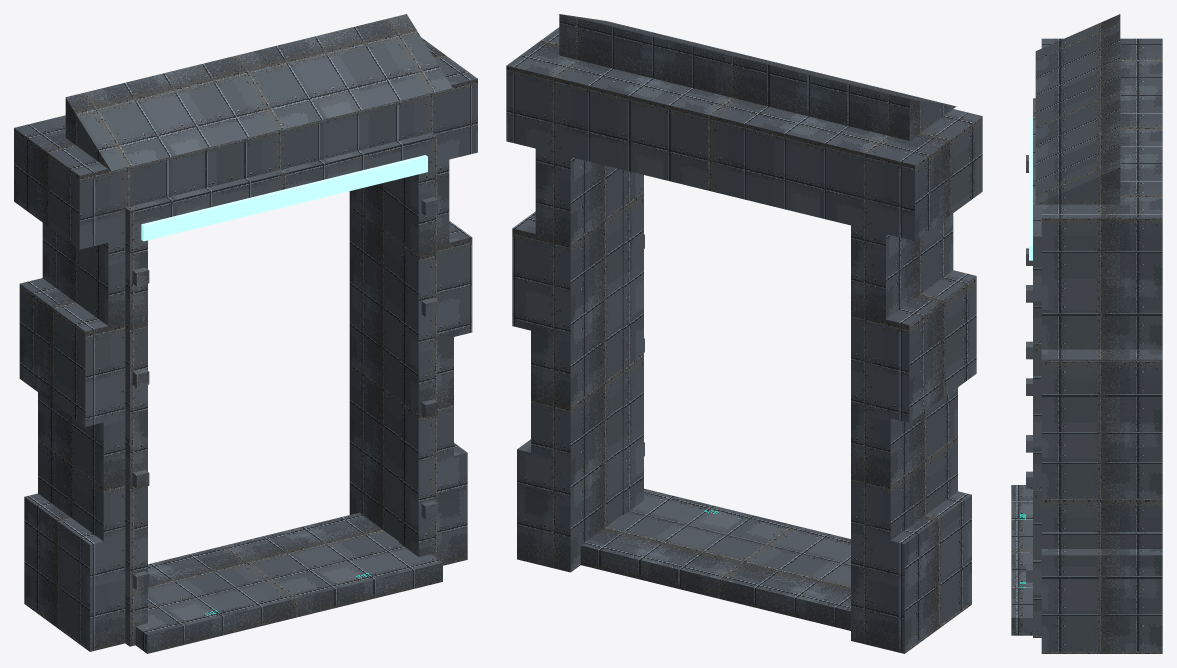
The model's file is portal_b_collar.glb.
The picture shows the model from 3 angles, left to right: view 1: azimuth 30°, elevation 25°; view 2: azimuth 150°, elevation 25°; view 3: azimuth 270°, elevation 25°; orthographic projection. The views are drawn at different scales.
Parts seen in each view (by area): view 1: portal_b_collar; view 2: portal_b_collar; view 3: portal_b_collar.
Part boxes in pixels (x1,y1,x2,y2): portal_b_collar: [14, 14, 477, 653]; portal_b_collar: [506, 14, 982, 653]; portal_b_collar: [1011, 14, 1162, 653].
Bounding box in the file's own units: 3.5 × 4.36 × 1.25.
Materials: 2 (1 with a texture image).
